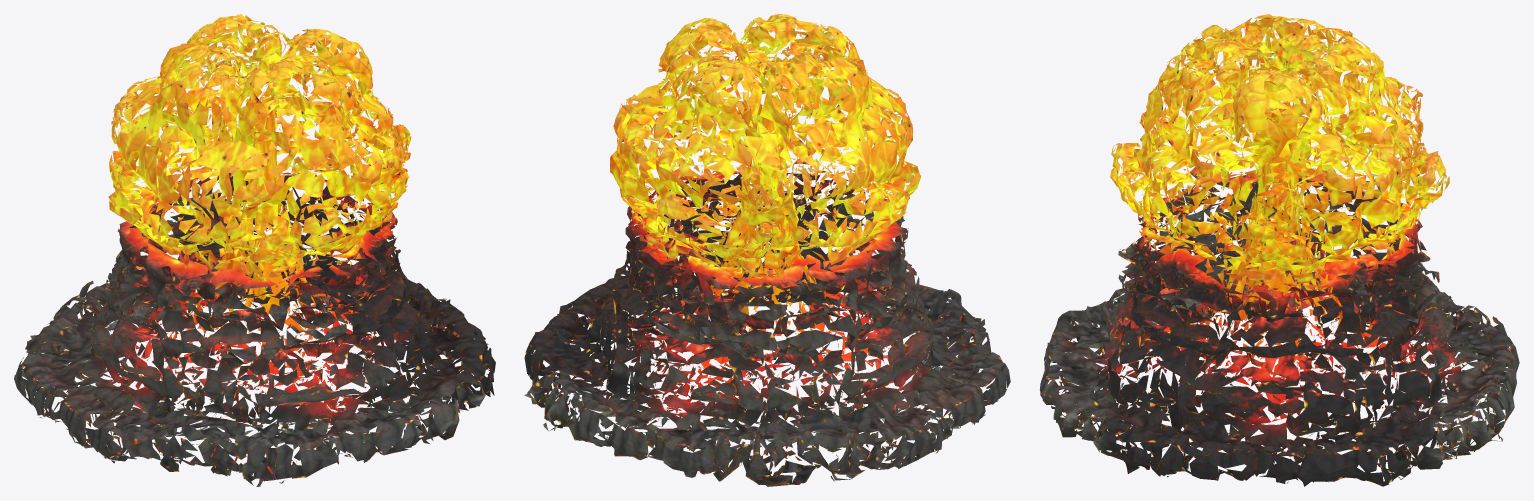
3 views of the same model, side by side, from view 1: azimuth 30°, elevation 25°; view 2: azimuth 150°, elevation 25°; view 3: azimuth 270°, elevation 25° (orthographic). The views are drawn at different scales.
Parts seen in each view (by area): view 1: Object_2, Object_3, Object_4, Object_5, Object_6, Object_7, Object_10, Object_8, Object_9; view 2: Object_2, Object_3, Object_4, Object_5, Object_6, Object_7, Object_10, Object_9, Object_8; view 3: Object_2, Object_3, Object_4, Object_5, Object_6, Object_7, Object_10, Object_9, Object_8.
Boxes of the visible parts, <box> form: Object_2: <box>14,16,494,479</box>; Object_3: <box>18,14,490,471</box>; Object_4: <box>14,31,495,481</box>; Object_5: <box>19,15,482,486</box>; Object_6: <box>23,14,492,477</box>; Object_7: <box>39,26,459,485</box>; Object_10: <box>59,20,472,461</box>; Object_8: <box>18,34,405,454</box>; Object_9: <box>97,30,473,437</box>; Object_2: <box>525,14,1008,478</box>; Object_3: <box>525,14,985,484</box>; Object_4: <box>527,20,998,486</box>; Object_5: <box>524,14,1010,484</box>; Object_6: <box>524,17,994,481</box>; Object_7: <box>540,16,1002,481</box>; Object_10: <box>534,16,983,484</box>; Object_9: <box>596,25,952,448</box>; Object_8: <box>553,22,924,450</box>; Object_2: <box>1040,16,1516,486</box>; Object_3: <box>1042,14,1519,477</box>; Object_4: <box>1041,18,1508,482</box>; Object_5: <box>1049,17,1505,483</box>; Object_6: <box>1040,16,1505,486</box>; Object_7: <box>1048,18,1506,482</box>; Object_10: <box>1040,21,1514,483</box>; Object_9: <box>1051,21,1461,432</box>; Object_8: <box>1074,31,1513,467</box>.
Bounding box in the file's own units: 23.04 × 19.2 × 23.23.
Materials: 1 (1 with a texture image).
